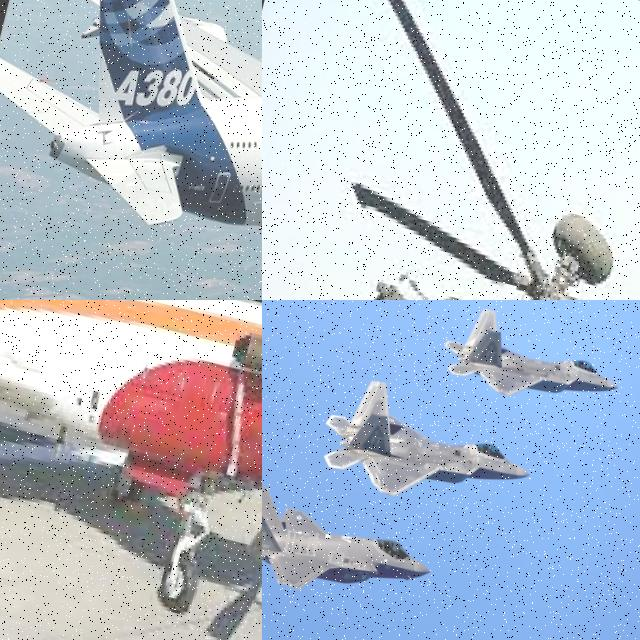A380: (0, 0, 262, 300)
Apache: (262, 0, 640, 300)
F22: (312, 370, 544, 534), (262, 478, 441, 629), (437, 301, 633, 435)
KT-1: (0, 300, 262, 640)
